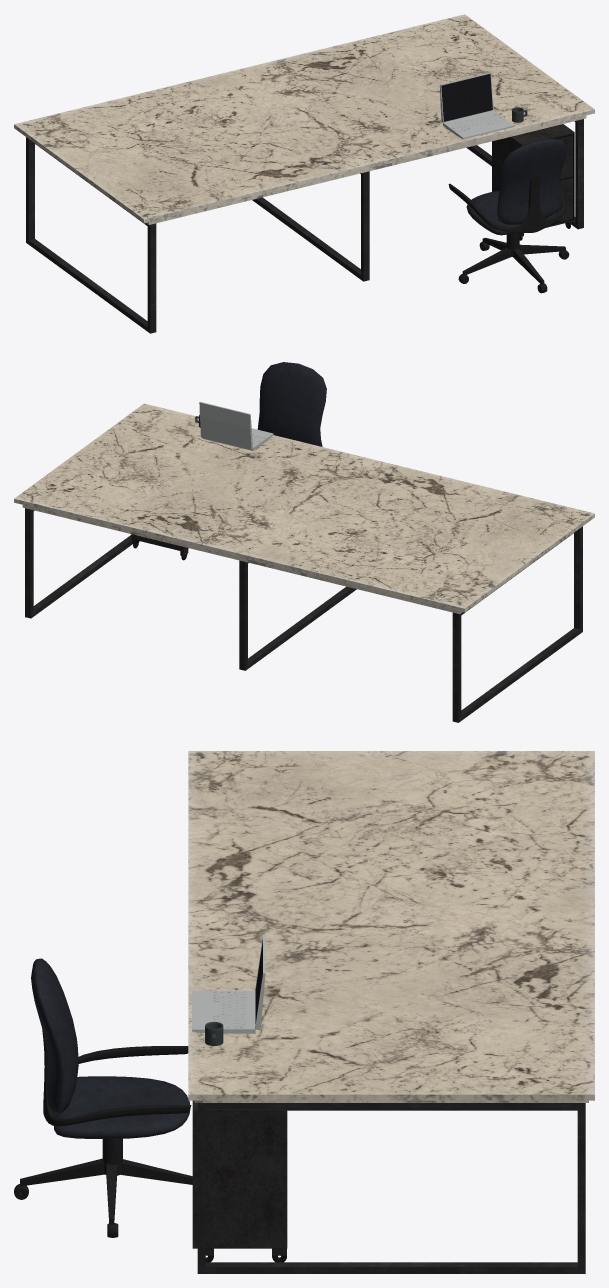
3 renders of one model, top to bottom at view 1: azimuth 30°, elevation 25°; view 2: azimuth 150°, elevation 25°; view 3: azimuth 270°, elevation 25°, orthographic. The views are drawn at different scales.
Parts seen in each view (by area): view 1: Cube.002, Chair, Computer, Cube.004; view 2: Cube.002, Chair, Computer; view 3: Cube.002, Chair, Cube.004, Computer.
Part boxes in pixels (<box>): Cube.002: <box>14,14,594,333</box>; Chair: <box>448,138,569,293</box>; Computer: <box>440,72,513,139</box>; Cube.004: <box>492,124,574,240</box>; Cube.002: <box>14,403,594,722</box>; Chair: <box>257,362,326,446</box>; Computer: <box>199,401,273,450</box>; Cube.002: <box>188,751,594,1273</box>; Chair: <box>14,958,192,1237</box>; Cube.004: <box>192,1100,287,1262</box>; Computer: <box>192,934,265,1033</box>.
Size of the model in its own units: 0.4125 by 0.1376 by 0.2947.
Materials: 5 (5 with a texture image).
